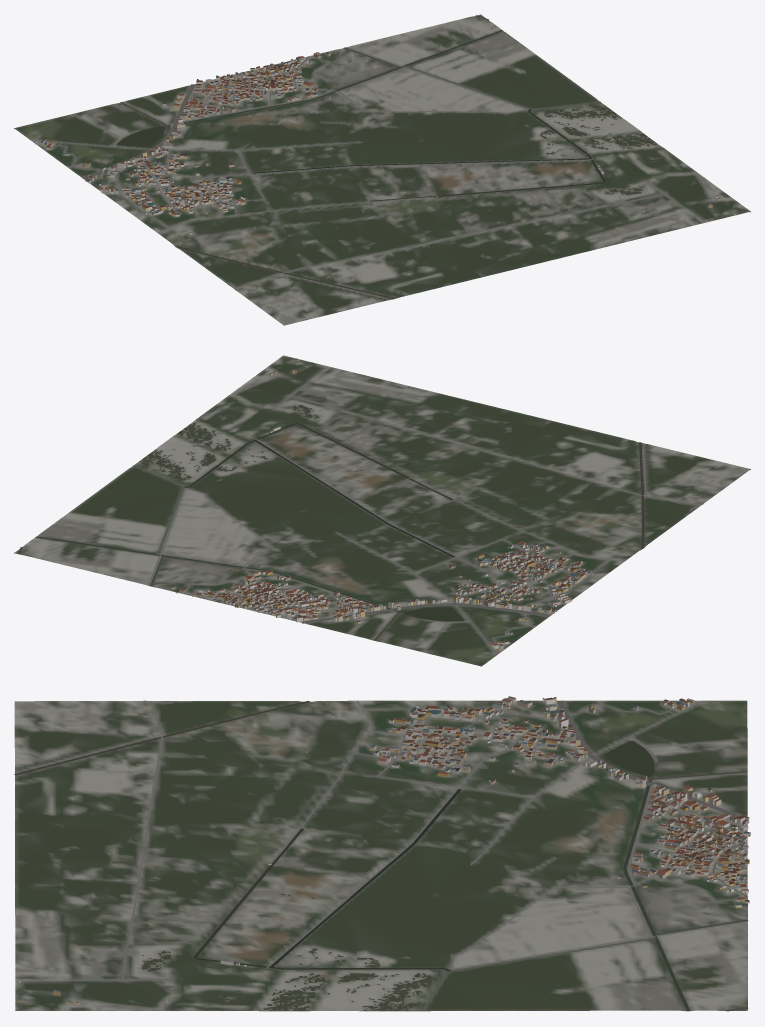
The picture shows the model from 3 angles, top to bottom: view 1: azimuth 30°, elevation 25°; view 2: azimuth 150°, elevation 25°; view 3: azimuth 270°, elevation 25°; orthographic projection. The views are drawn at different scales.
Parts seen in each view (by area): view 1: ground, buildings, water, roads; view 2: ground, buildings, water, roads; view 3: ground, buildings, water, roads.
Boxes of the visible parts, box(x1,y1,x2,y2) form: ground: box(14, 14, 750, 325); buildings: box(35, 52, 736, 234); water: box(116, 15, 664, 299); roads: box(29, 47, 706, 299); ground: box(14, 355, 750, 666); buildings: box(171, 358, 610, 651); water: box(18, 405, 644, 640); roads: box(148, 366, 703, 654); ground: box(14, 700, 747, 1011); buildings: box(18, 696, 750, 1004); water: box(14, 700, 748, 1011); roads: box(14, 700, 747, 981).
Bounding box in the file's own units: 1408 × 19.34 × 1410.
